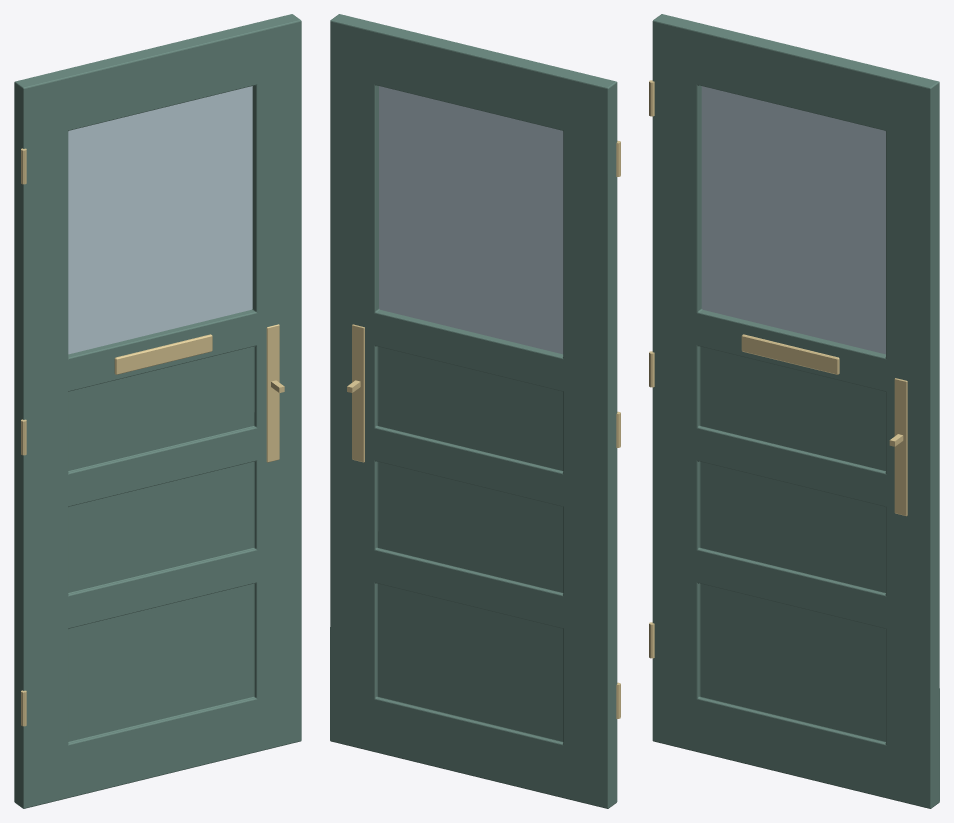
Rendered from door_leaf_front.glb.
The picture shows the model from 3 angles, left to right: view 1: azimuth 30°, elevation 25°; view 2: azimuth 150°, elevation 25°; view 3: azimuth 330°, elevation 25°; orthographic projection.
Visible parts, largest first — view 1: door_leaf_front_door, door_leaf_front_glass, door_leaf_front_brass; view 2: door_leaf_front_door, door_leaf_front_glass, door_leaf_front_brass; view 3: door_leaf_front_door, door_leaf_front_glass, door_leaf_front_brass.
Boxes of the visible parts, box(x1,y1,x2,y2) form: door_leaf_front_door: box(14, 14, 301, 808); door_leaf_front_glass: box(68, 86, 252, 354); door_leaf_front_brass: box(21, 148, 284, 726); door_leaf_front_door: box(330, 14, 617, 808); door_leaf_front_glass: box(379, 86, 563, 354); door_leaf_front_brass: box(347, 140, 620, 718); door_leaf_front_door: box(652, 14, 939, 808); door_leaf_front_glass: box(701, 86, 885, 354); door_leaf_front_brass: box(649, 80, 907, 658).
Bounding box in the file's own units: 0.868 × 2.13 × 0.15.
